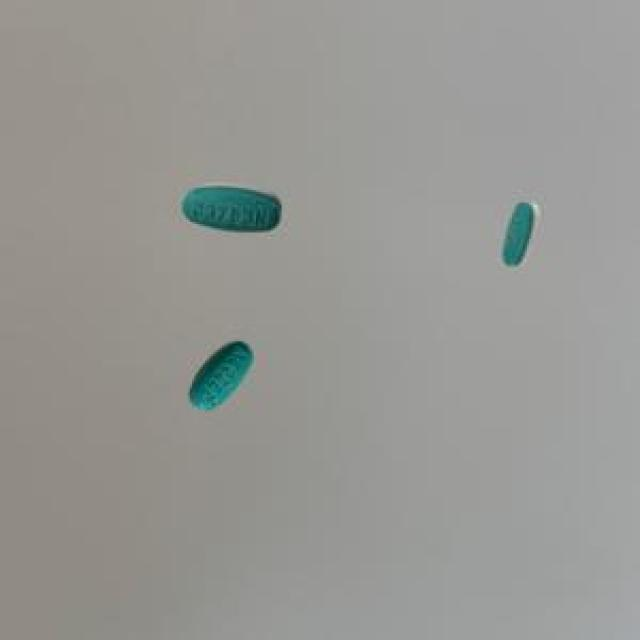Neozep: (174, 180, 296, 243), (183, 334, 266, 419), (490, 194, 550, 277)
